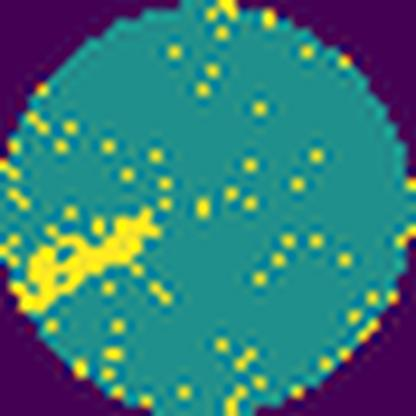Loc: (16, 204, 162, 317)
